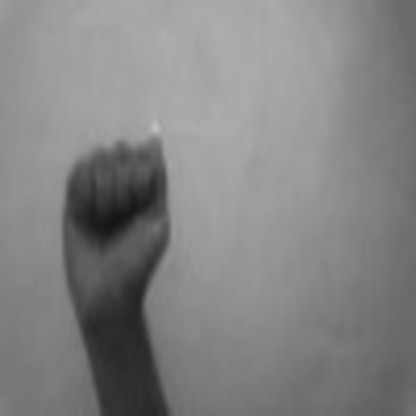a: (58, 127, 174, 327)
